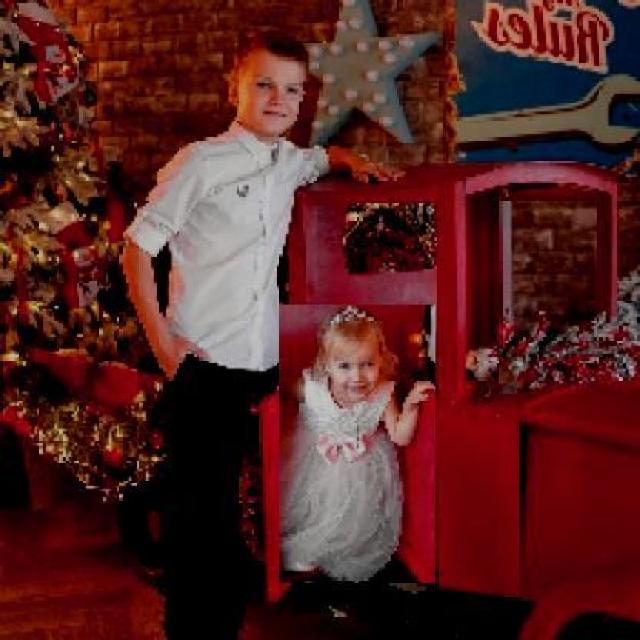child: (278, 304, 436, 584)
